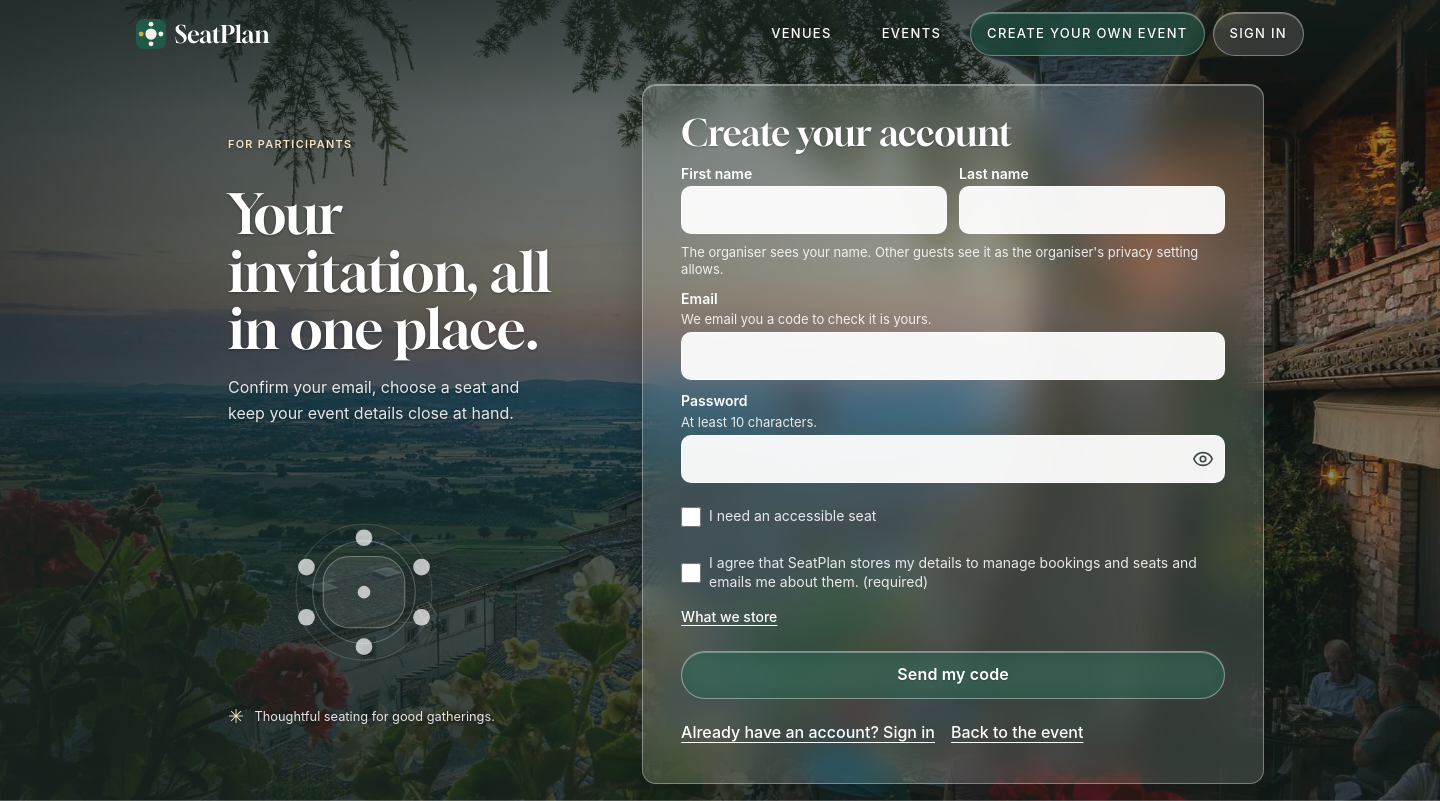
Test case: RegisterPage › shows a wrong code next to the code field
Type "Nina" into the field labelled "First name" at x=814, y=210, box [681,186,947,234]
Type "Lopes" into the field labelled "Last name" at x=1092, y=210, box [959,186,1225,234]
Type "nina@example.com" into the field labelled "Email" at x=953, y=356, box [681,332,1225,380]
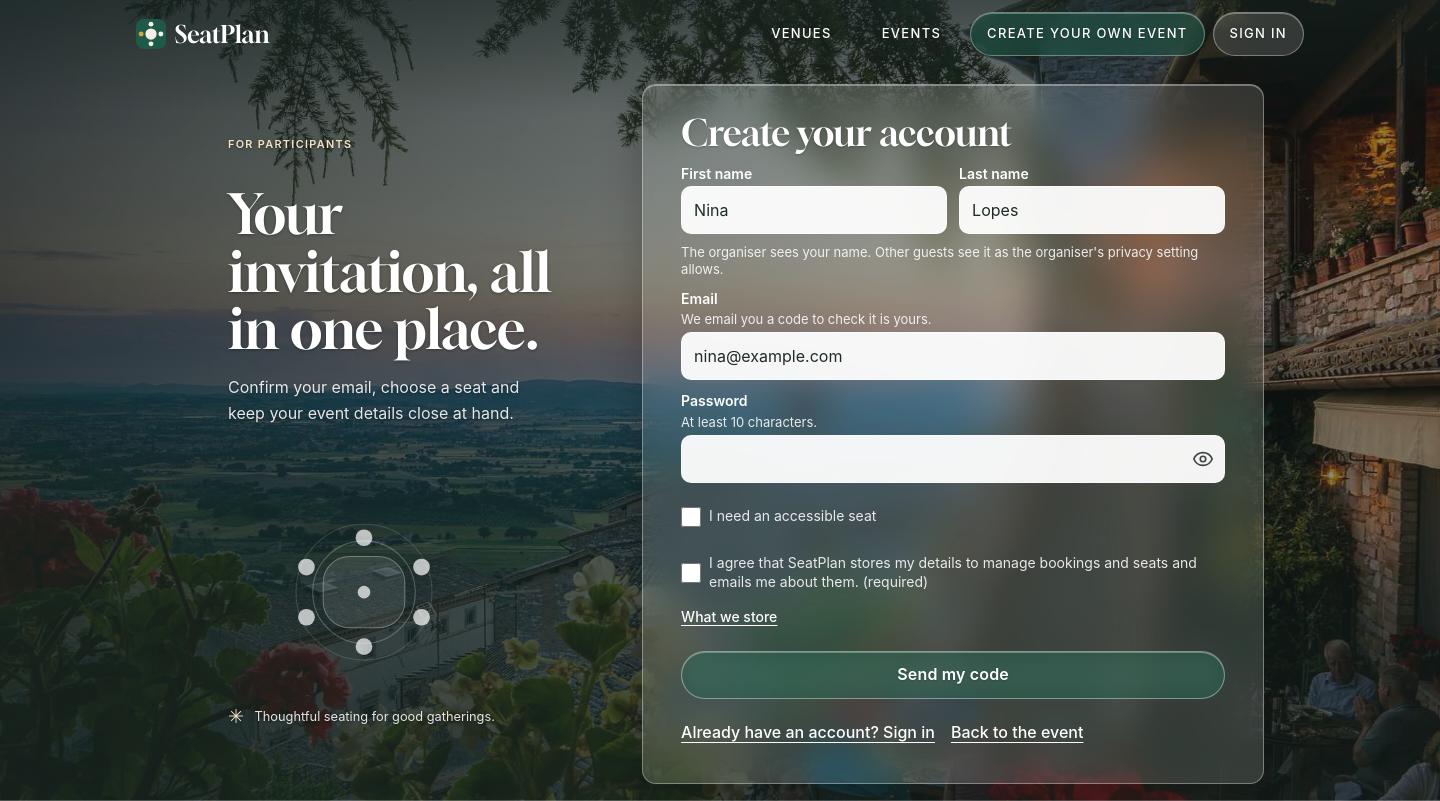
Type "a long password" into the password field labelled "Password" at x=953, y=459, box [681,435,1225,483]
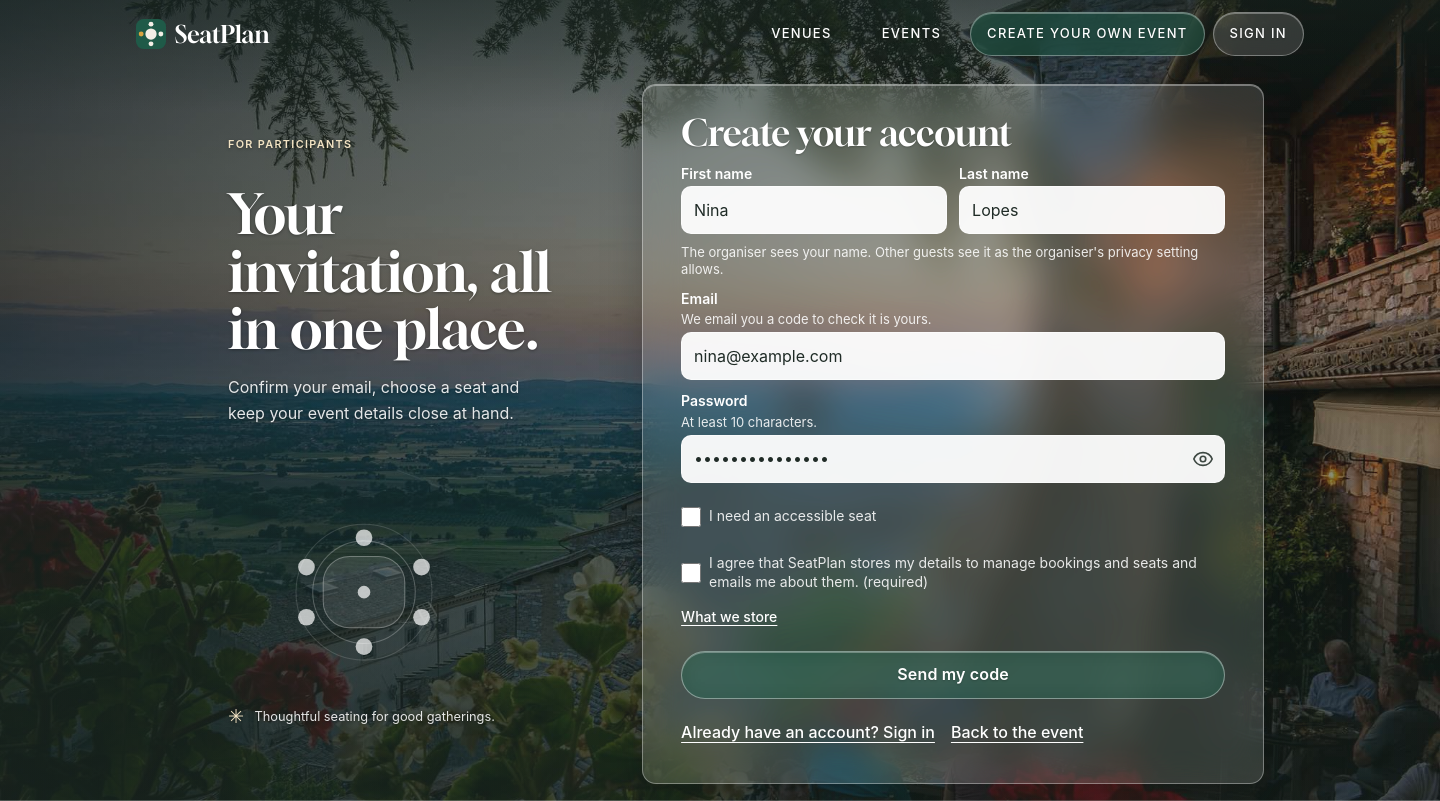
Click the checkbox labelled "I agree that SeatPlan stores my details" at x=691, y=573, box [681,563,701,583]
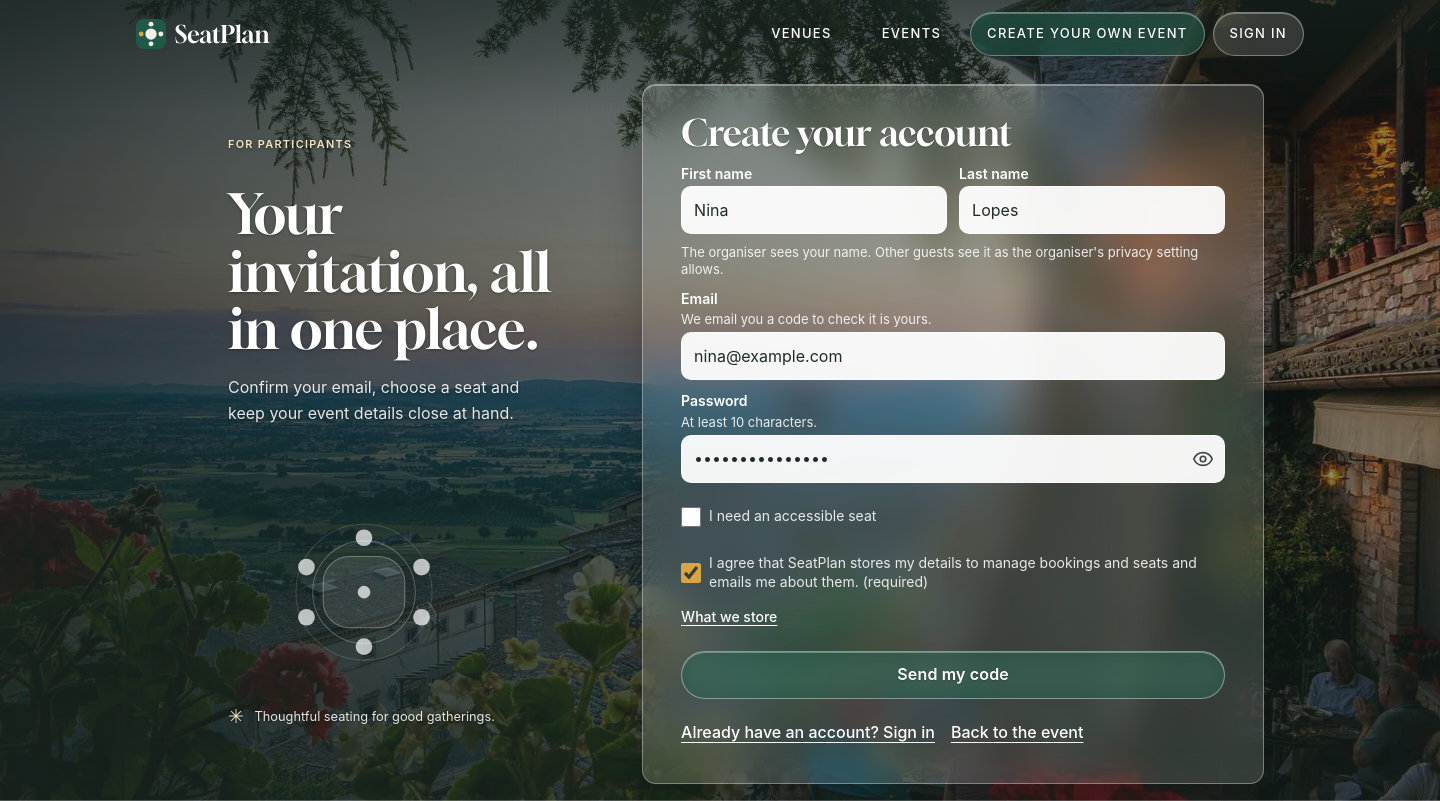
Click the button "Send my code" at x=953, y=675, box [681,651,1225,699]
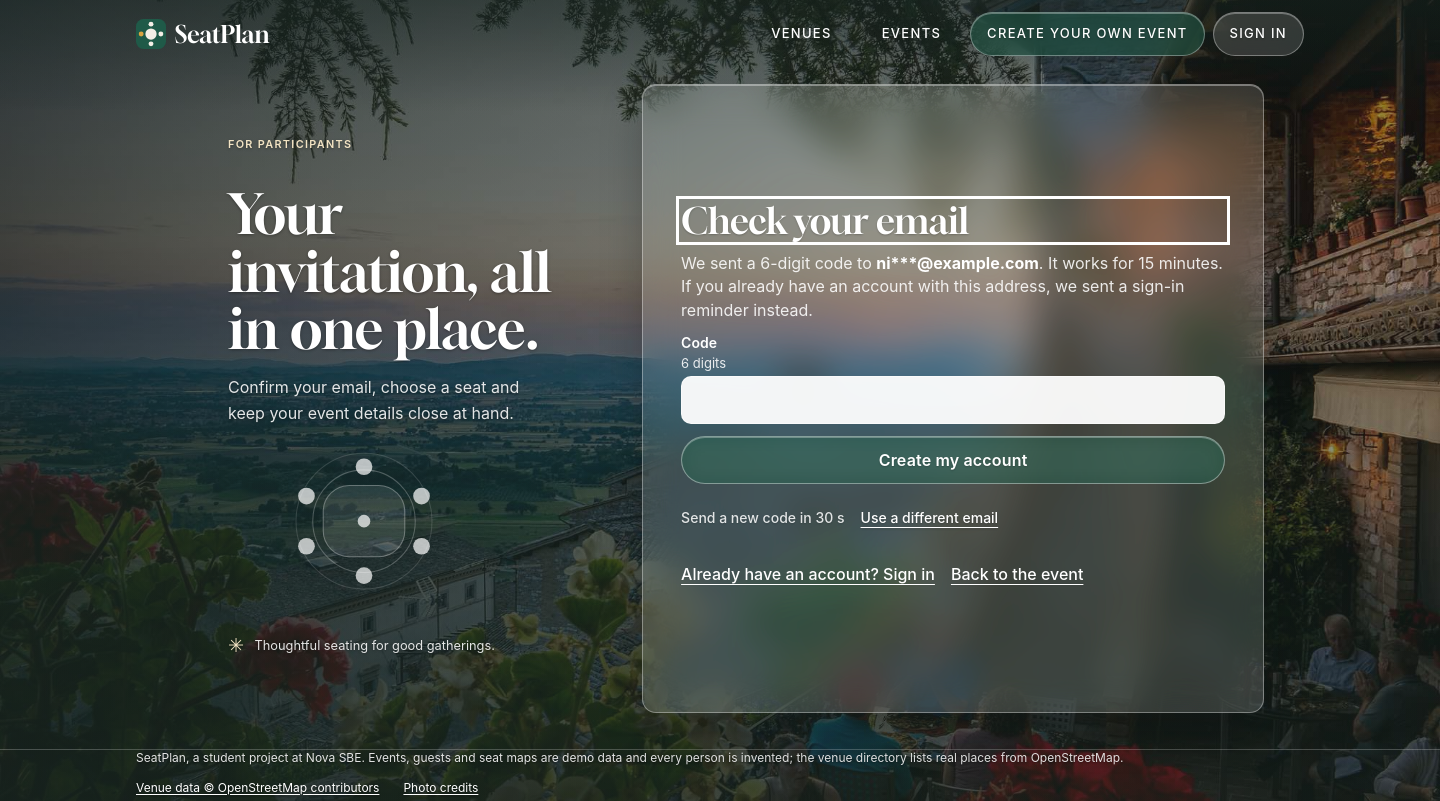
Check: the heading "Check your email" is shown, box [681,198,968,242]
Type "000000" into the field labelled "Code" at x=953, y=400, box [681,376,1225,424]
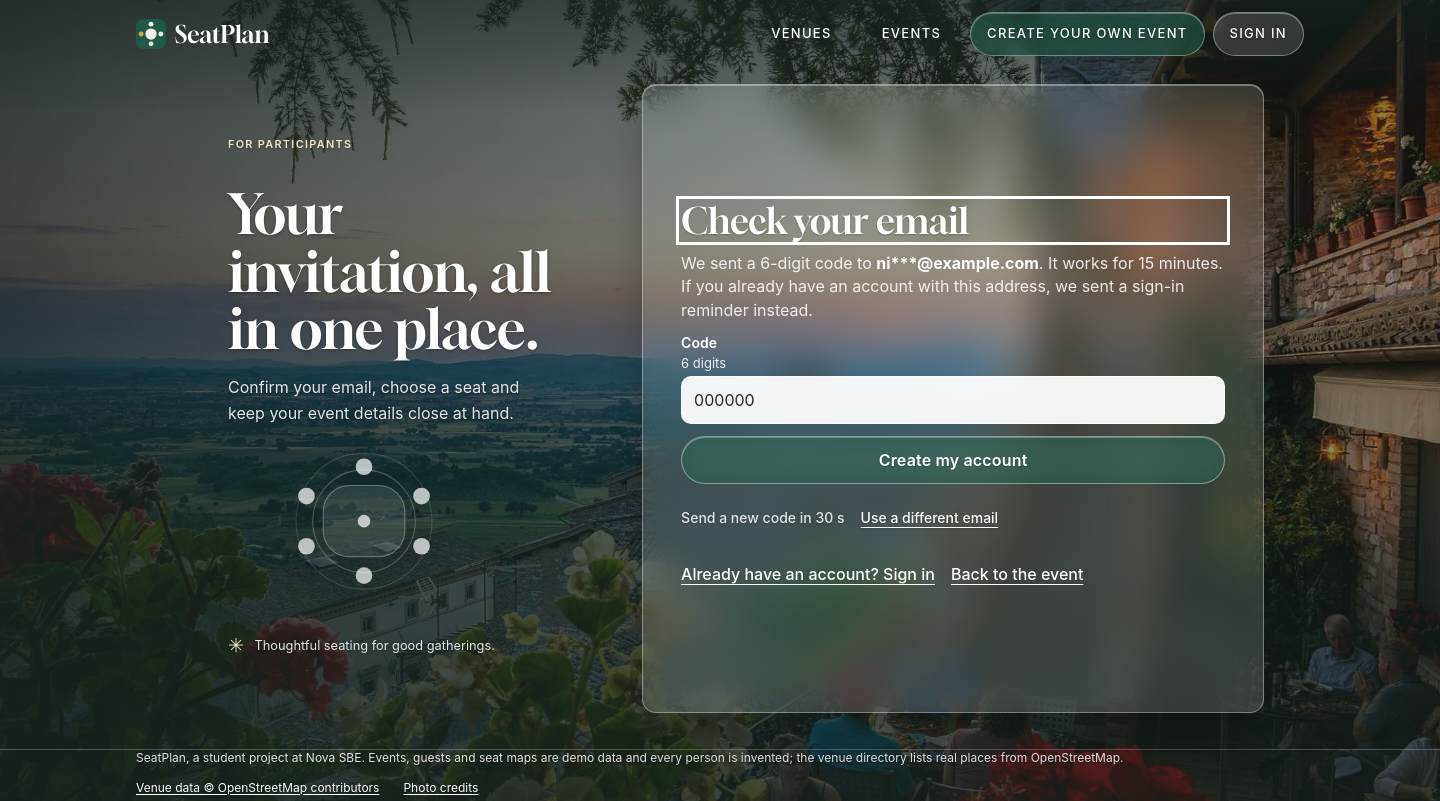
Click the button "Create my account" at x=953, y=460, box [681,436,1225,484]
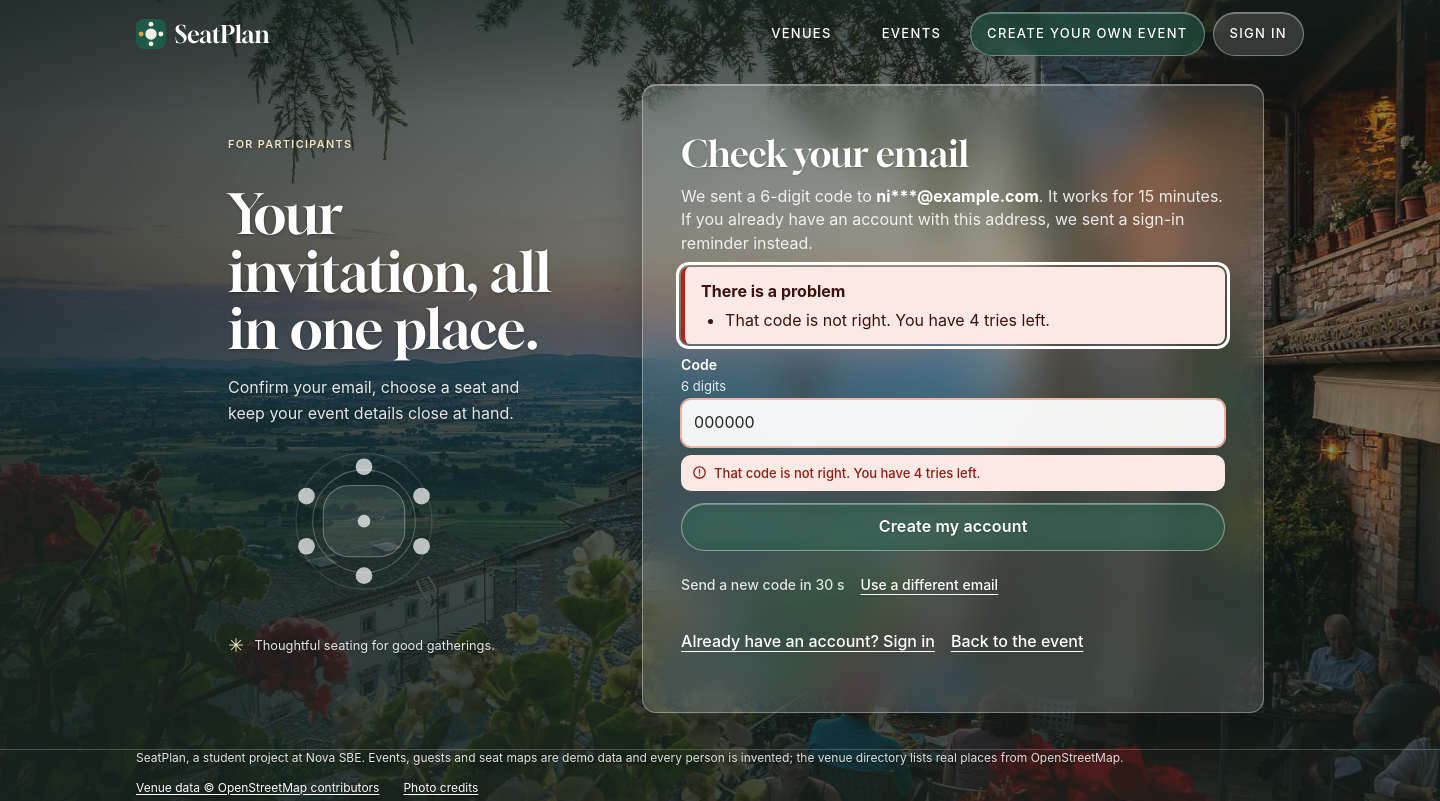
Check: the number of list items "That code is not right. You have 4 tries left." is 2, box [725,310,1050,330]; [681,455,1225,491]
